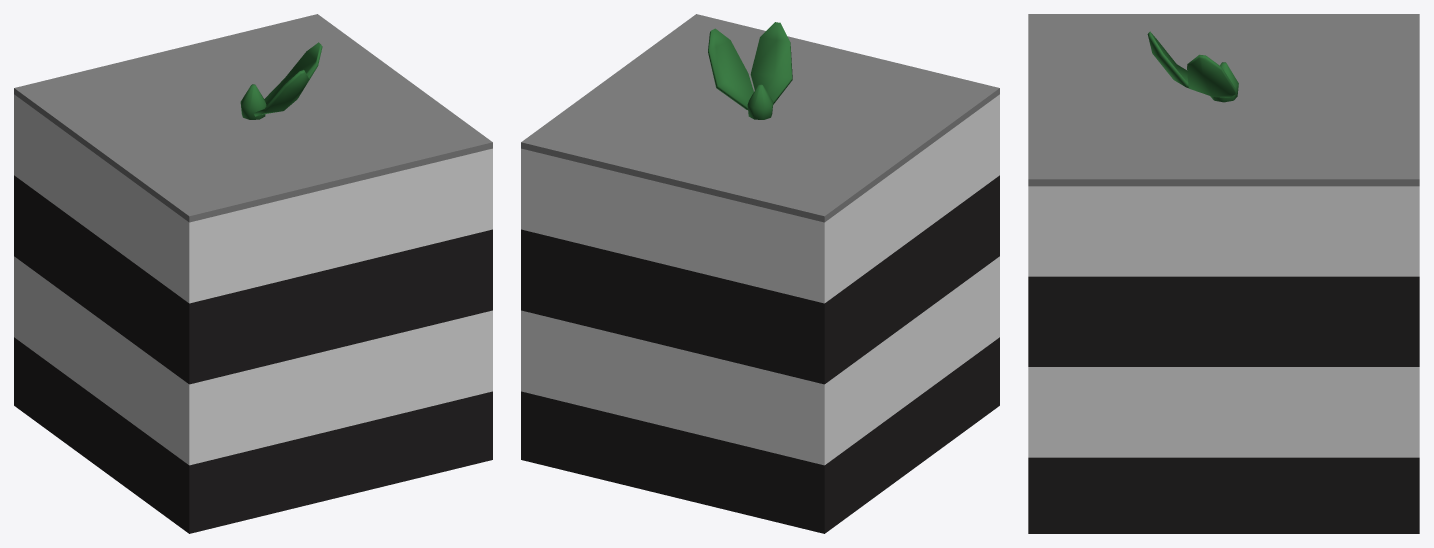
Rendered from thiramis_1.fbx.
The picture shows the model from 3 angles, left to right: view 1: azimuth 30°, elevation 25°; view 2: azimuth 150°, elevation 25°; view 3: azimuth 270°, elevation 25°; orthographic projection. The views are drawn at different scales.
Visible parts, largest first — view 1: 立方体.002; view 2: 立方体.002; view 3: 立方体.002.
Boxes of the visible parts, bbox=[...] form: 立方体.002: bbox=[14, 14, 492, 533]; 立方体.002: bbox=[521, 14, 999, 533]; 立方体.002: bbox=[1028, 14, 1419, 533].
Size of the model in its own units: 13.4 by 16.14 by 13.4.
